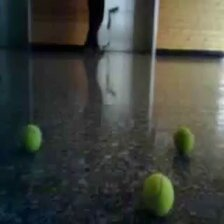tennis: (143, 174, 175, 216), (16, 123, 42, 155), (173, 129, 195, 156)
